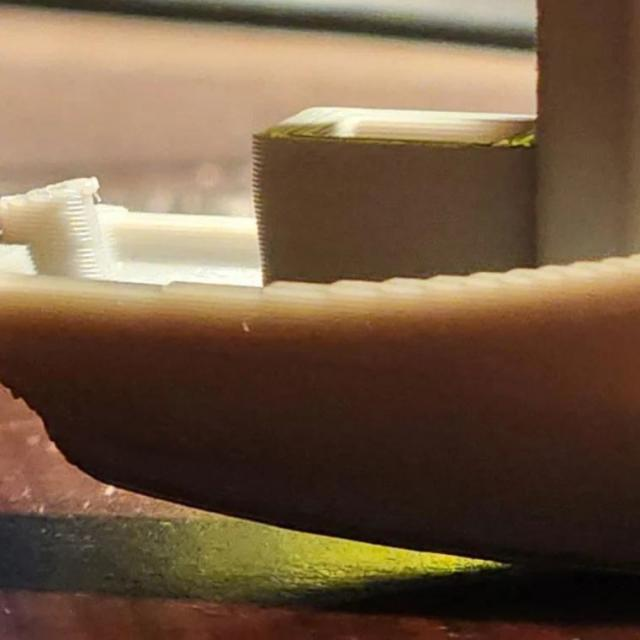Warping: (71, 449, 593, 594)
